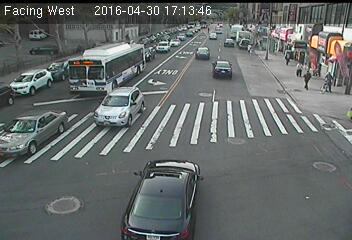neg: (291, 124, 310, 149), (179, 115, 197, 139), (260, 115, 278, 139), (222, 118, 236, 137), (242, 70, 256, 88), (118, 66, 131, 83), (154, 49, 166, 66), (132, 111, 144, 127), (245, 42, 254, 54), (214, 63, 221, 72)
pos: (299, 68, 316, 90), (320, 68, 337, 90), (291, 59, 304, 76), (282, 49, 292, 63), (203, 24, 211, 35)
